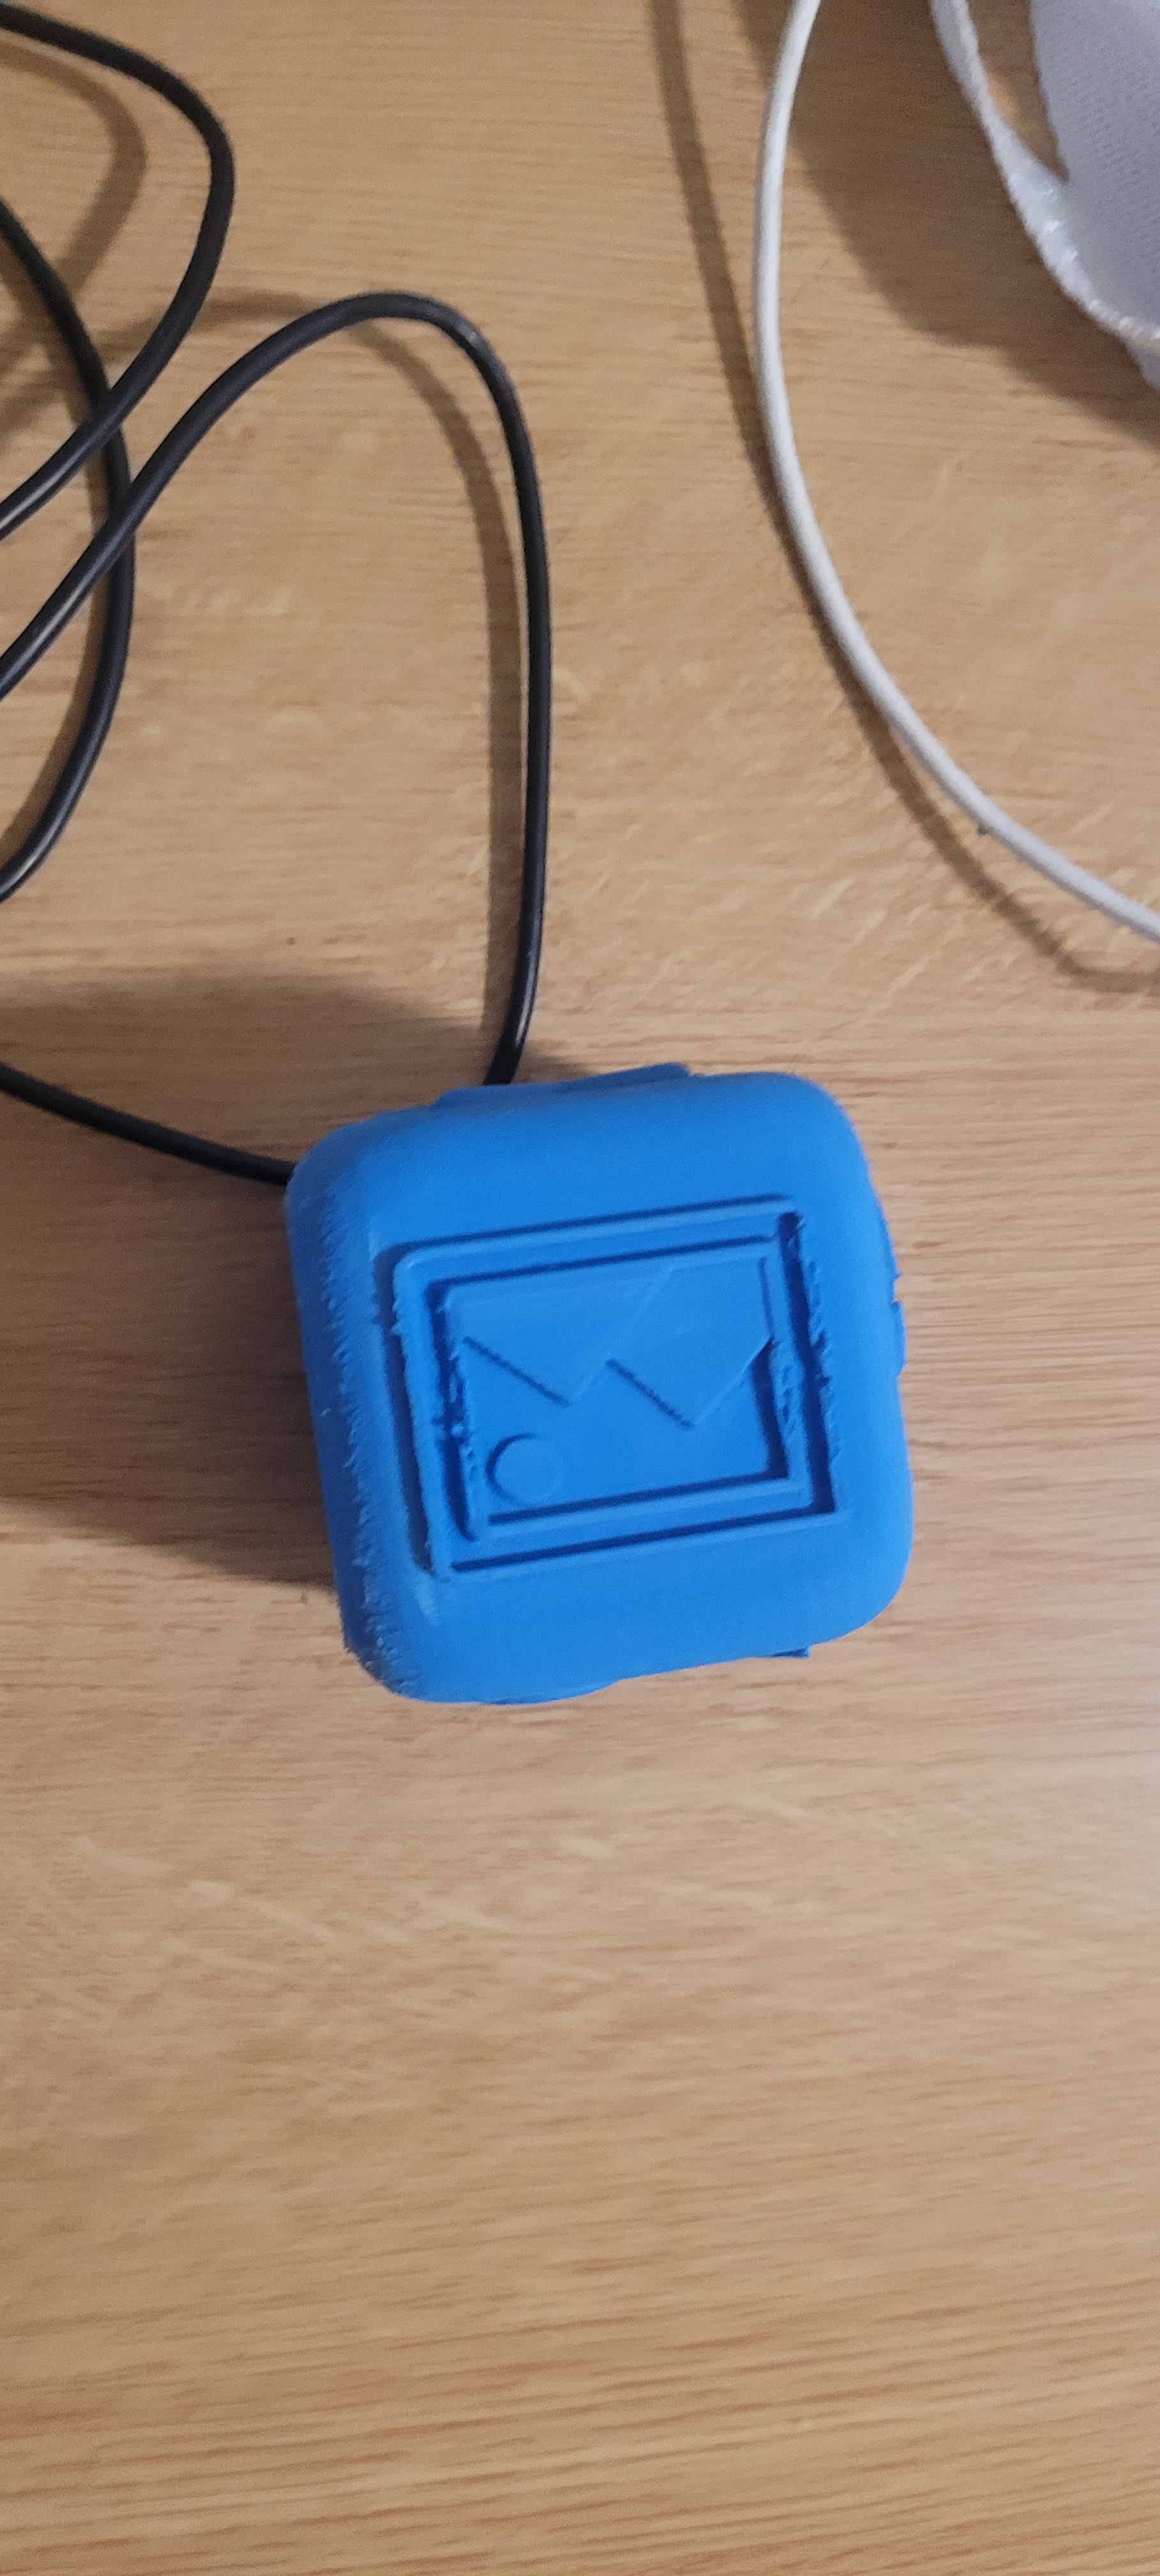Story: (327, 1203, 864, 1589)
